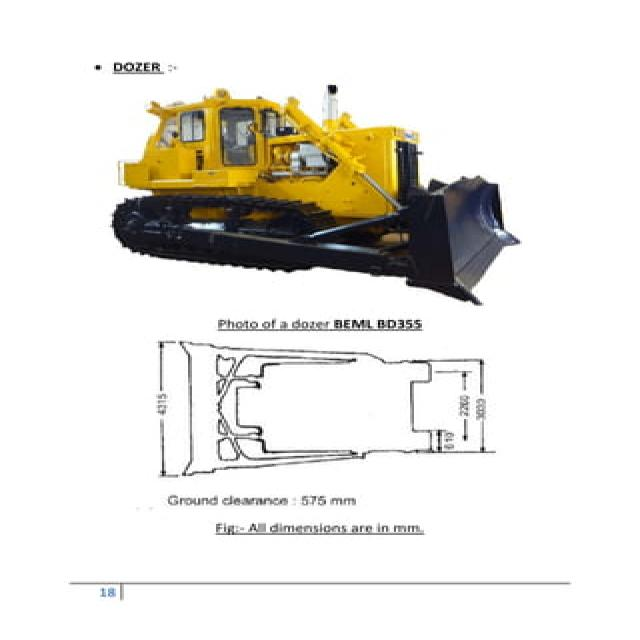buldozerpayloadergrader: (91, 83, 519, 297)
